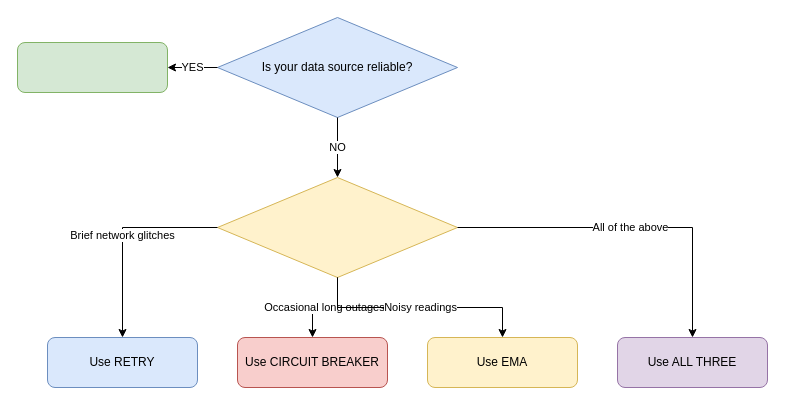
Some shapes in this 785 by 405 pixel diagram are drawn without their labels. The shapes that lost their labels are listed below. From the top down, each one's centre as x and y in pixels, then its label:
At point (92, 67): "Minimal or no resilience needed".
At point (337, 227): "What type of failures?".
